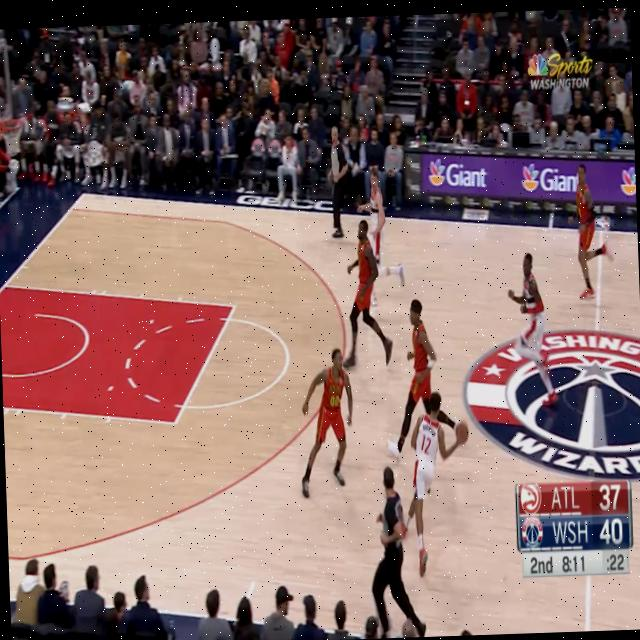no foul: (470, 157, 628, 400), (374, 290, 483, 552), (336, 168, 412, 375)
